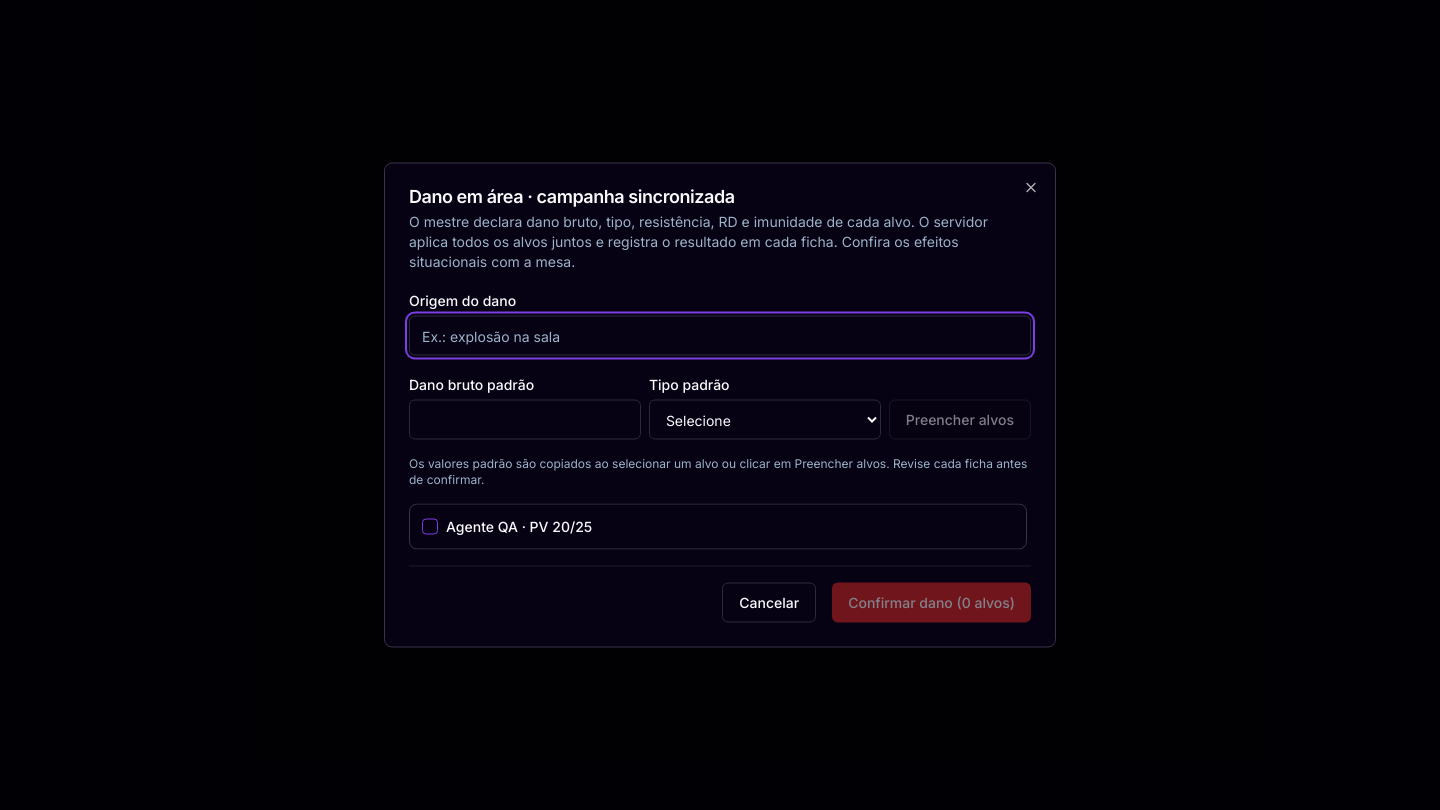
Test case: dano em área sincronizado › mostra a ordem oficial de vulnerabilidade e desmarca imunidade
The image size is (1440, 810).
Click the checkbox named "Agente QA" at (430, 526), box [422, 518, 438, 534]
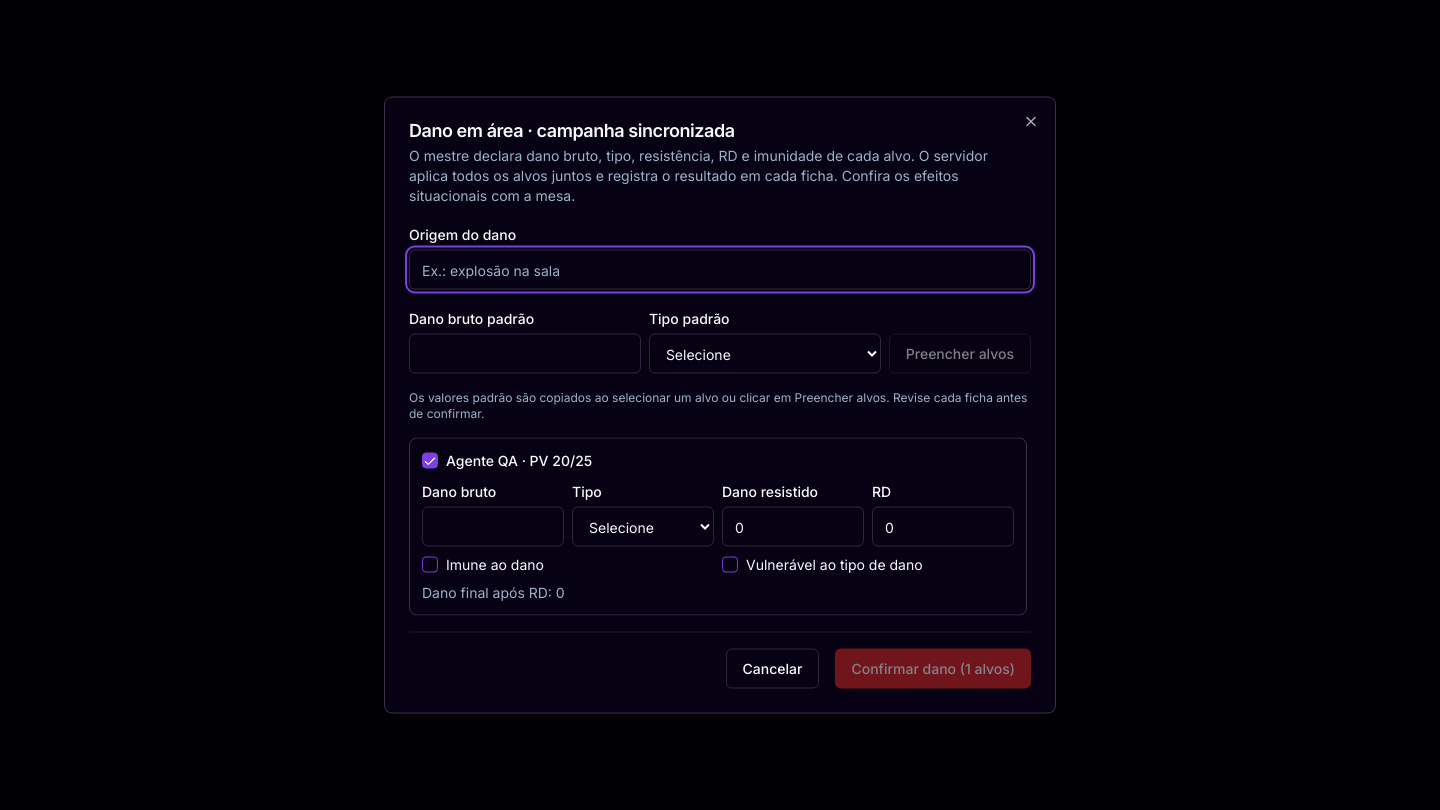
Type "12" into the number field labelled "Dano bruto" at (493, 526), box [422, 506, 564, 546]
Select "fogo" in the dropdown labelled "Tipo" at (643, 526), box [572, 506, 714, 546]
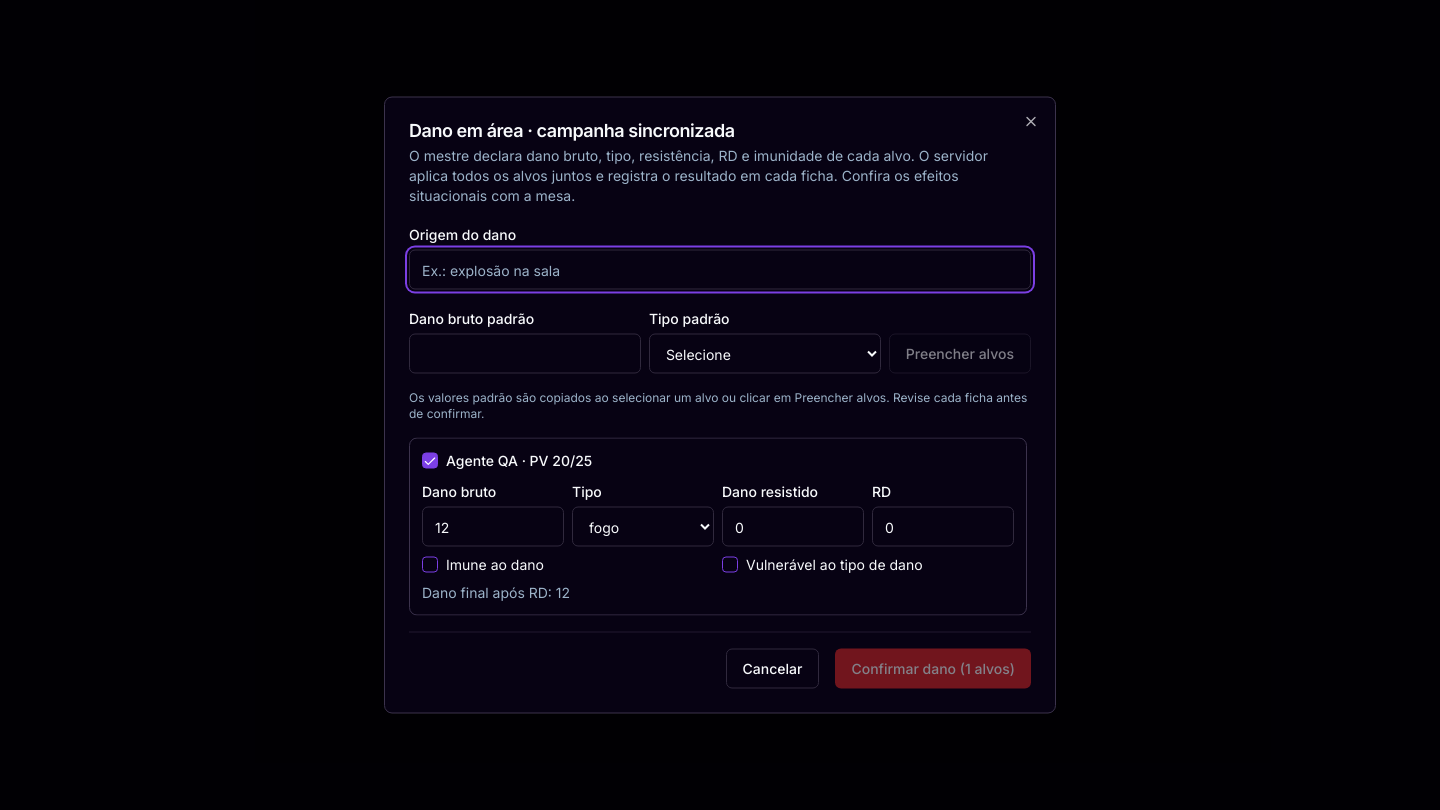
Replace the text in the number field labelled "Dano resistido" with "6" at (793, 526), box [722, 506, 864, 546]
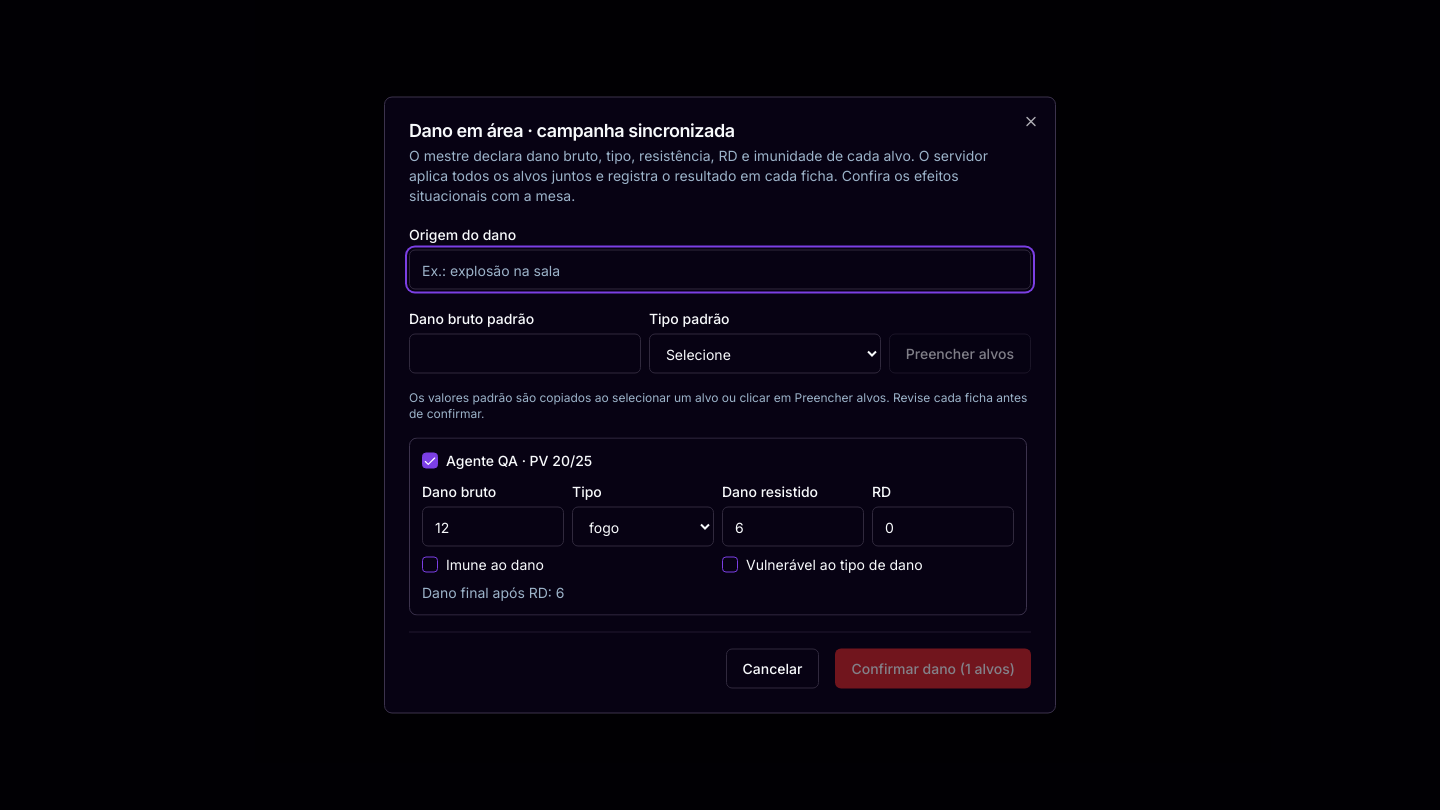
Replace the text in the number field labelled "RD" with "2" at (943, 526), box [872, 506, 1014, 546]
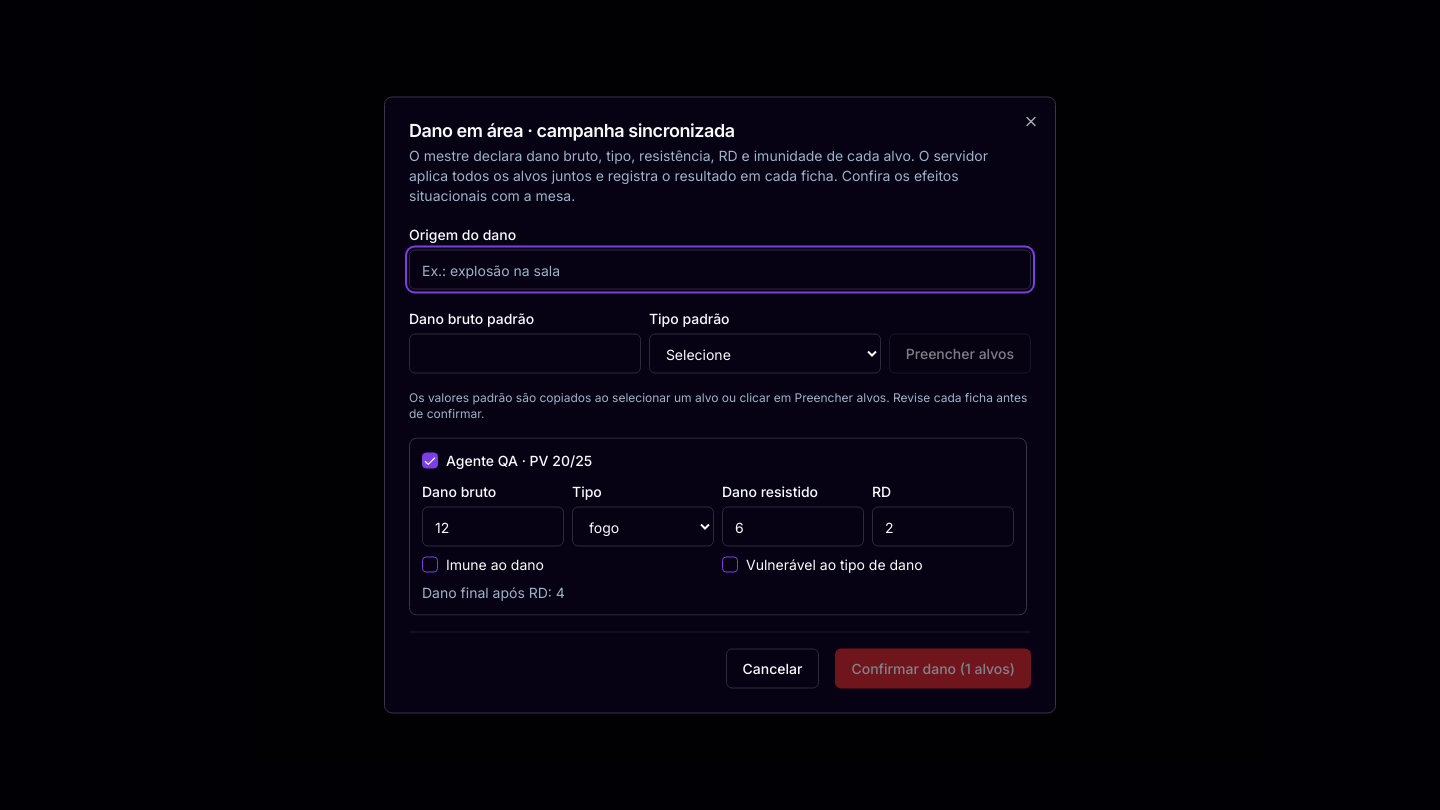
Click the checkbox named "Imune ao dano" next to "Imune ao dano" at (430, 564), box [422, 556, 438, 572]
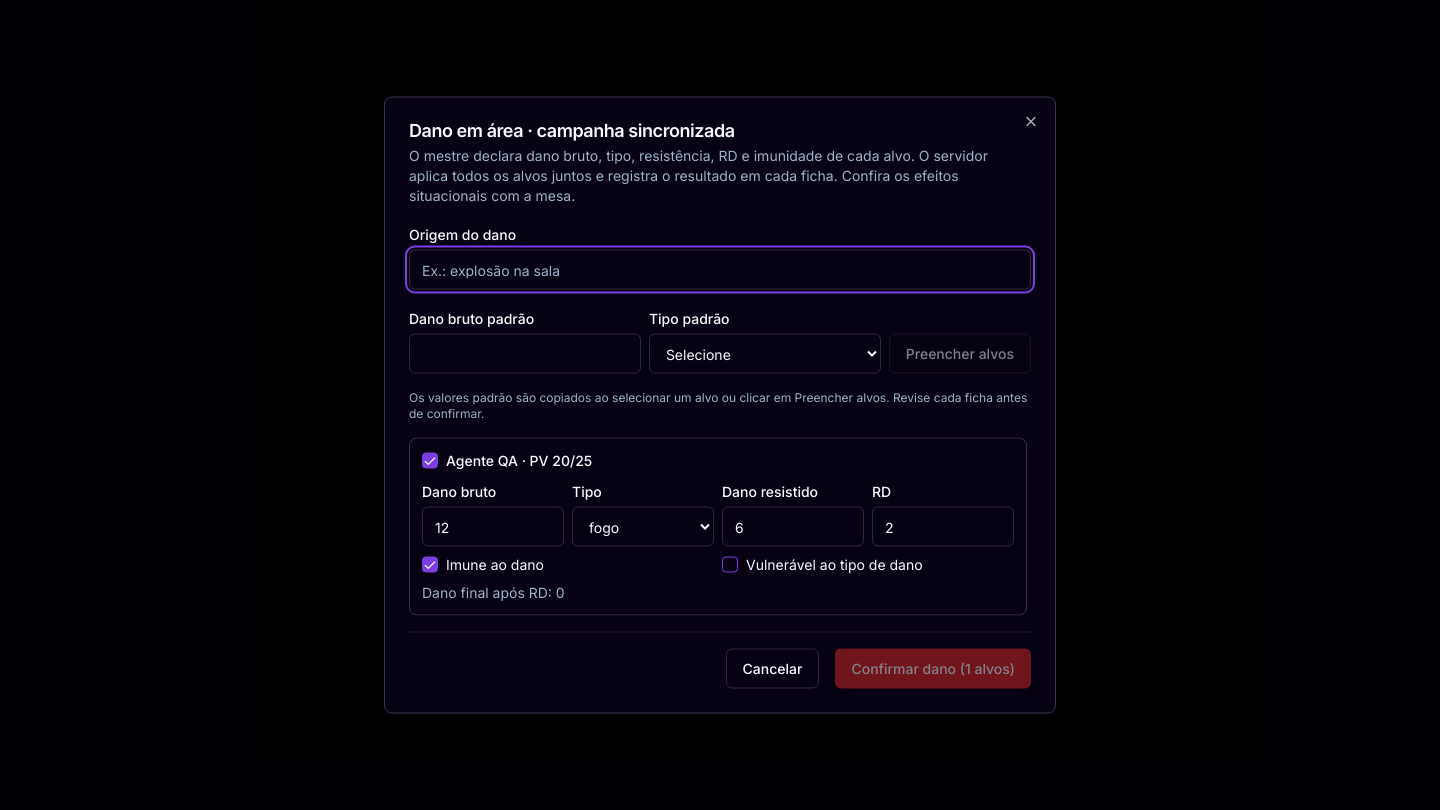
Click the checkbox named "Vulnerável ao tipo de dano" next to "Vulnerável ao tipo de dano" at (730, 564), box [722, 556, 738, 572]
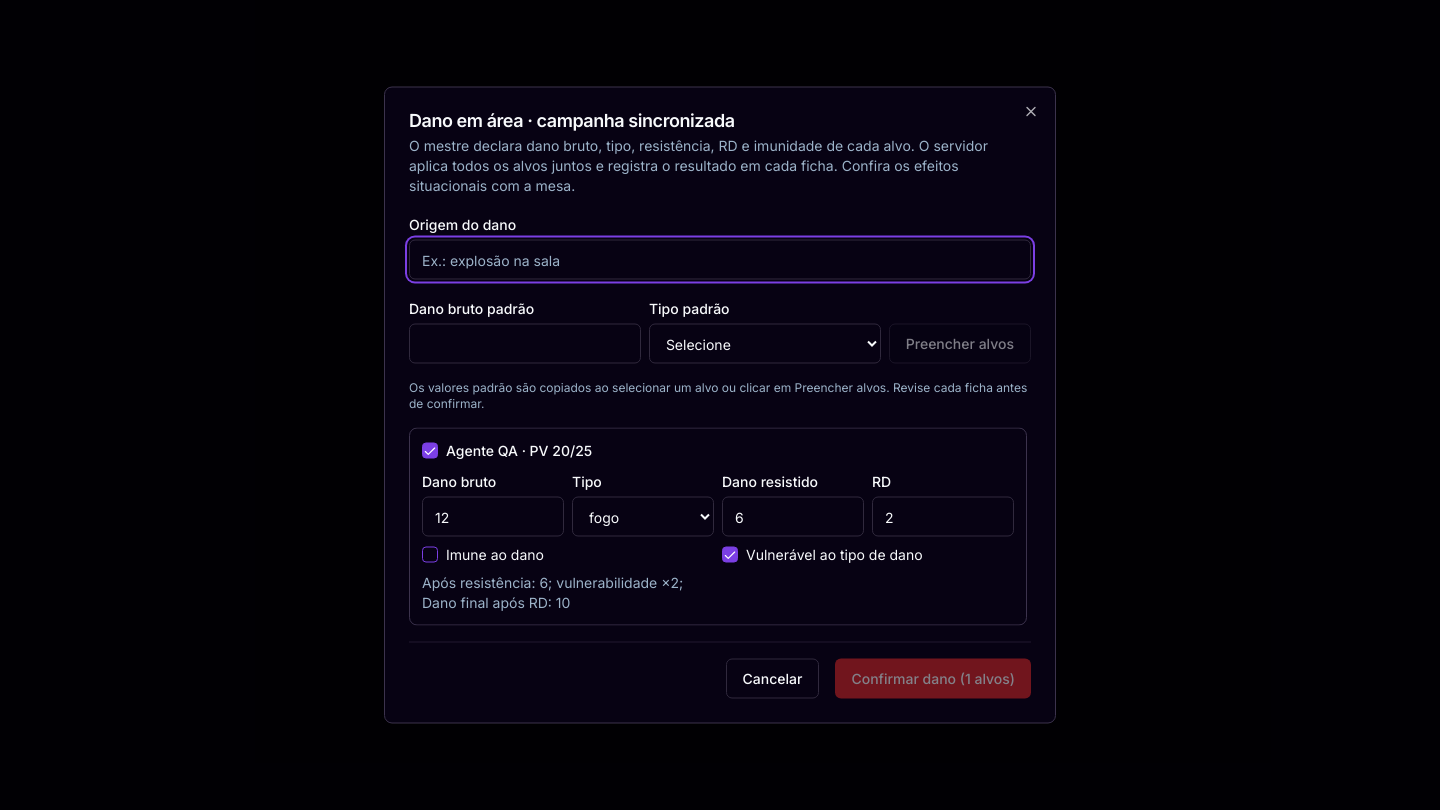
expect the checkbox named "Imune ao dano" next to "Imune ao dano" is not checked: met, box [422, 546, 438, 562]
expect the text "Após resistência: 6; vulnerabilidade ×2; Dano final após RD: 10" is shown: met, box [422, 572, 714, 612]
